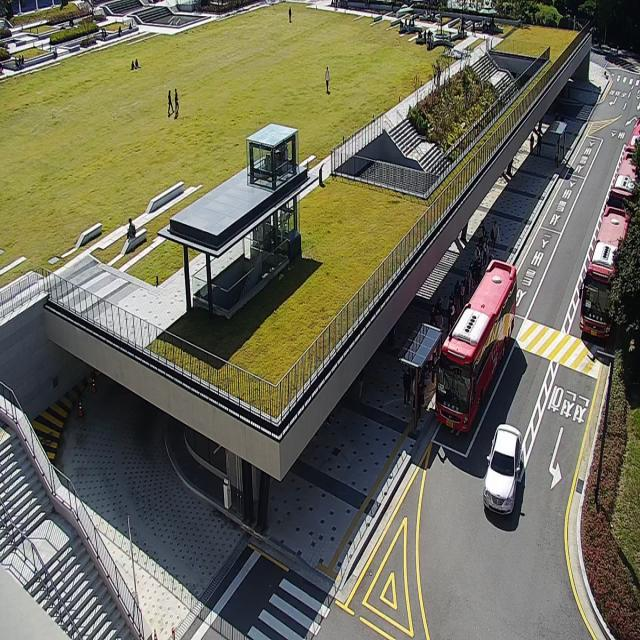queue: (412, 216, 500, 428)
